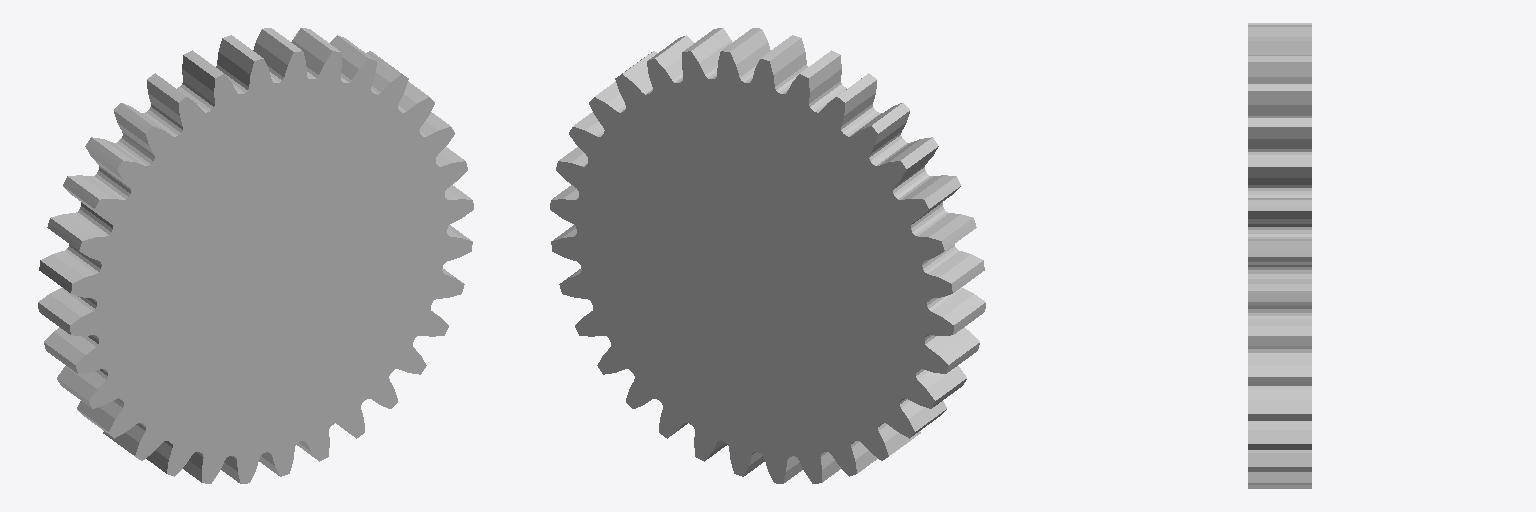
File: Gear.obj
The picture shows the model from 3 angles: view 1: azimuth 30°, elevation 25°; view 2: azimuth 150°, elevation 25°; view 3: azimuth 270°, elevation 25°; orthographic projection.
Parts seen in each view (by area): view 1: 1; view 2: 1; view 3: 1.
Part boxes in pixels (x1,y1,x2,y2): 1: (38, 28, 473, 483); 1: (550, 28, 985, 483); 1: (1248, 23, 1311, 488).
Bounding box in the file's own units: 50.96 × 50.96 × 7.